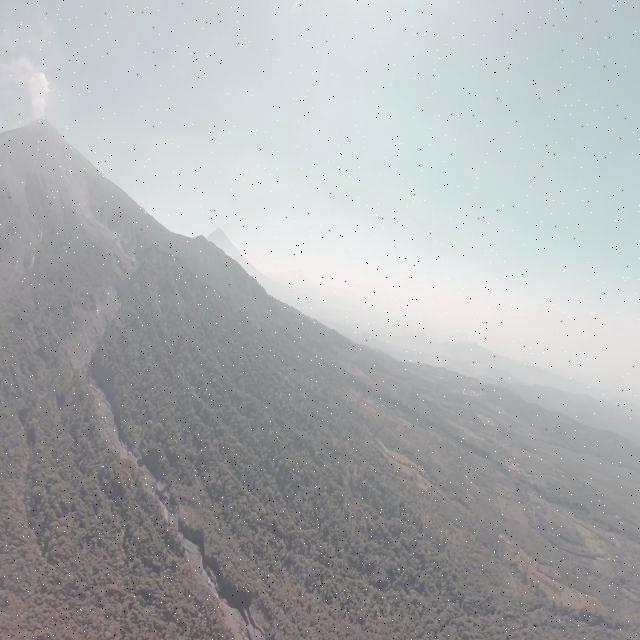Plume: (1, 56, 54, 126)
Summit: (29, 116, 60, 135)
